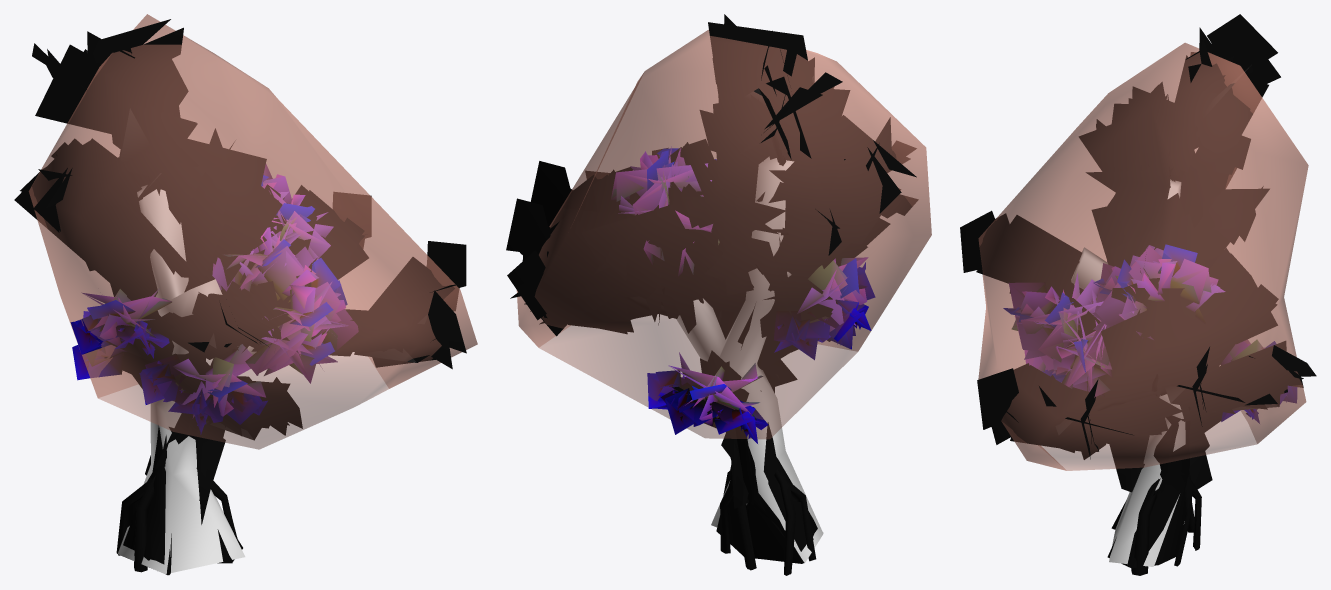
The model's file is tree_oak_dead_a.dae.
The picture shows the model from 3 angles, left to right: view 1: azimuth 30°, elevation 25°; view 2: azimuth 150°, elevation 25°; view 3: azimuth 270°, elevation 25°; orthographic projection. The views are drawn at different scales.
Visible parts, largest first — view 1: Colmesh_large_01-1, OakDead_01_a1600, OakDead_01_a400; view 2: Colmesh_large_01-1, OakDead_01_a400, OakDead_01_a1600; view 3: Colmesh_large_01-1, OakDead_01_a400, OakDead_01_a1600.
Part boxes in pixels (x1,y1,x2,y2): Colmesh_large_01-1: (28,14,477,574); OakDead_01_a1600: (20,19,462,575); OakDead_01_a400: (14,31,466,571); Colmesh_large_01-1: (516,29,931,562); OakDead_01_a400: (506,22,918,574); OakDead_01_a1600: (522,14,916,575); Colmesh_large_01-1: (978,42,1308,566); OakDead_01_a400: (960,14,1316,573); OakDead_01_a1600: (988,27,1303,575).
Bounding box in the file's own units: 10 × 8.11 × 12.54.
